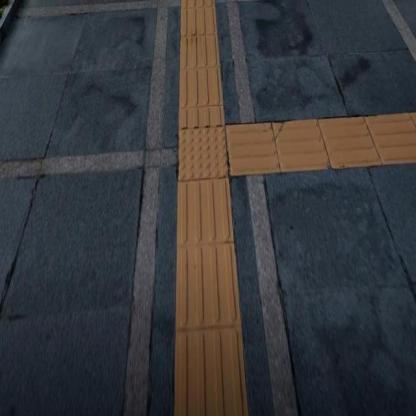podotacti: (174, 184, 250, 415), (230, 111, 415, 177), (159, 99, 256, 219), (174, 0, 228, 124)
